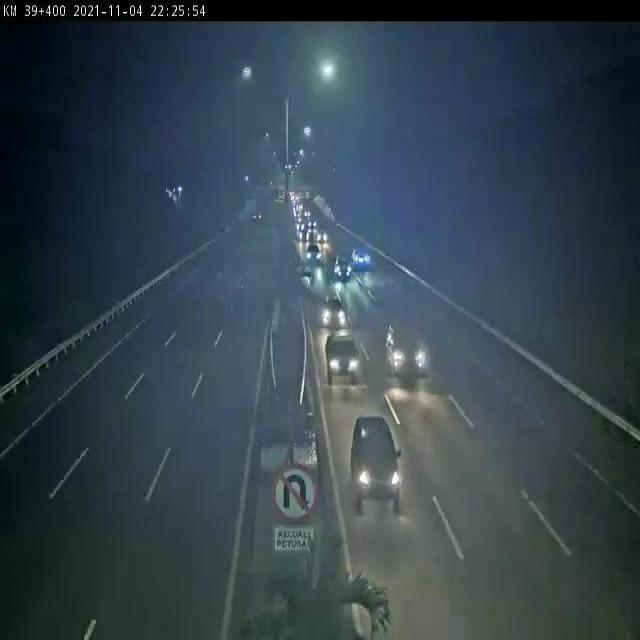car: (348, 413, 409, 516), (378, 317, 437, 387), (322, 334, 365, 394), (319, 299, 350, 328), (331, 260, 352, 287), (303, 241, 327, 264), (352, 250, 373, 270)
